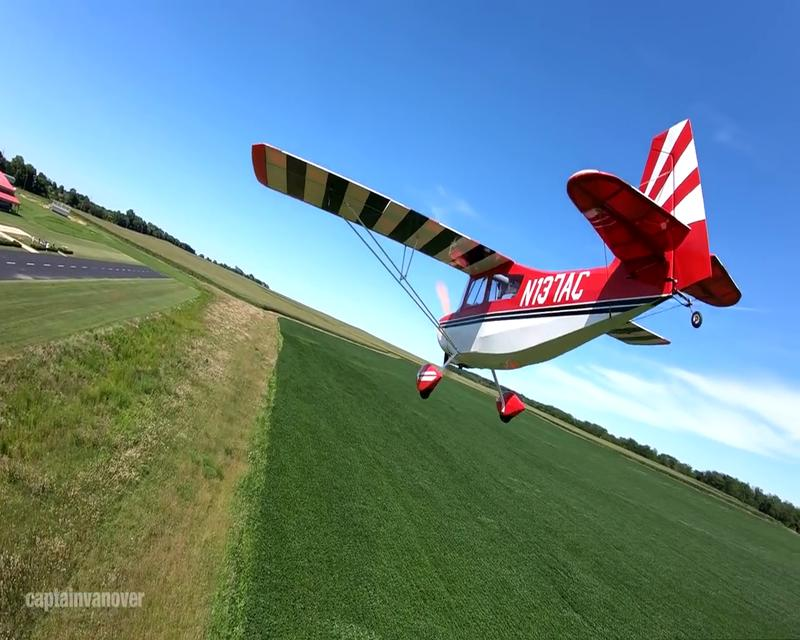UAV: (250, 115, 743, 424)
